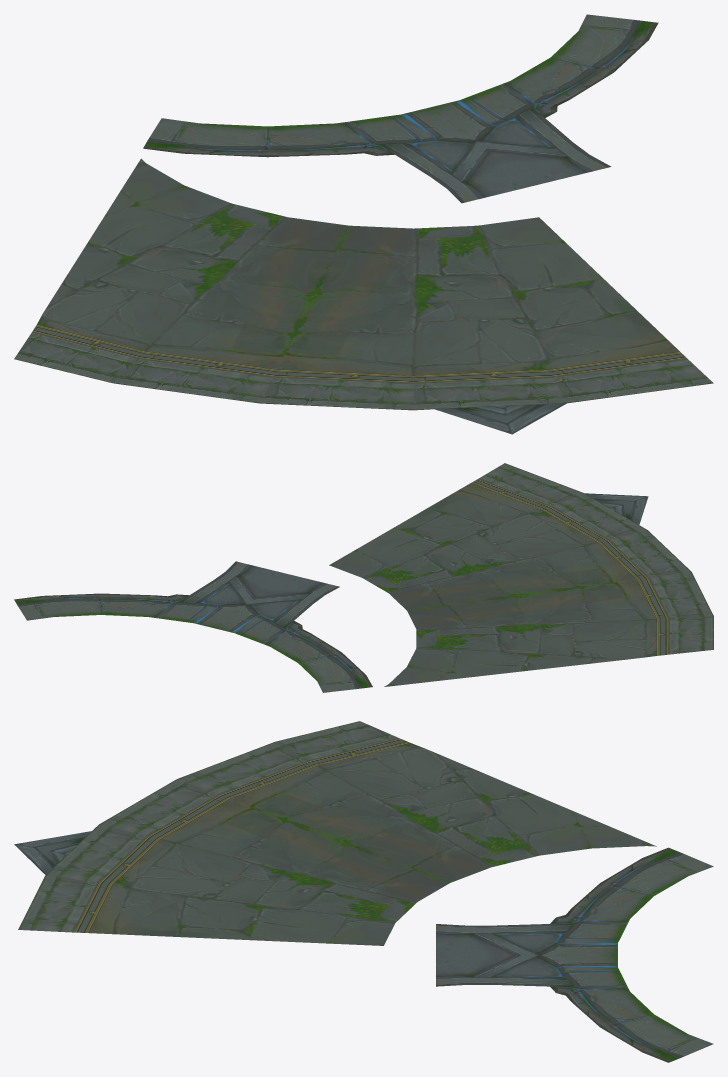
File: SL_dibian01.FBX
The picture shows the model from 3 angles, top to bottom: view 1: azimuth 30°, elevation 25°; view 2: azimuth 150°, elevation 25°; view 3: azimuth 270°, elevation 25°; orthographic projection. The views are drawn at different scales.
Parts seen in each view (by area): view 1: SL_dibian01_002, SL_dibian01_001; view 2: SL_dibian01_002, SL_dibian01_001; view 3: SL_dibian01_002, SL_dibian01_001.
Boxes of the visible parts, x1,y1,x2,y2 form: SL_dibian01_002: [14, 158, 713, 434]; SL_dibian01_001: [143, 14, 658, 203]; SL_dibian01_002: [329, 463, 713, 686]; SL_dibian01_001: [14, 561, 372, 692]; SL_dibian01_002: [14, 721, 656, 945]; SL_dibian01_001: [436, 847, 713, 1062].
Size of the model in its own units: 2401 by 9.28 by 2062.
